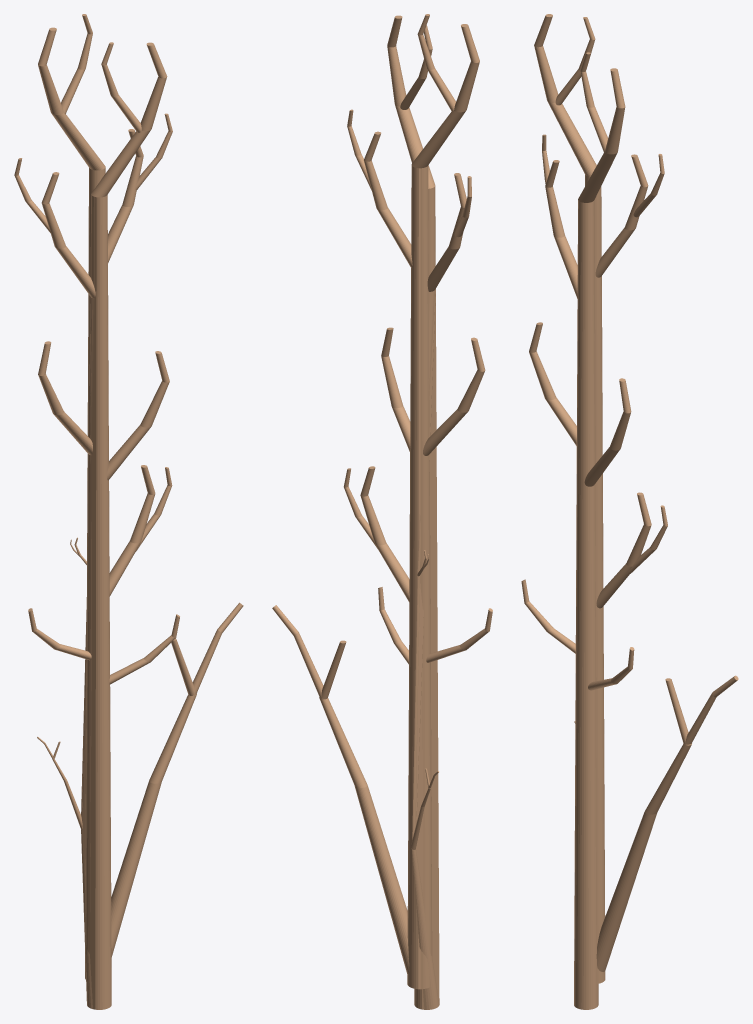
The model's file is trunk12.fbx.
3 renders of one model, left to right at view 1: azimuth 30°, elevation 25°; view 2: azimuth 150°, elevation 25°; view 3: azimuth 330°, elevation 25°, orthographic.
Visible parts, largest first — view 1: trunk12; view 2: trunk12; view 3: trunk12.
Part boxes in pixels (x1=…): trunk12: x1=14, y1=14, x2=243, y2=1009; trunk12: x1=272, y1=14, x2=492, y2=1009; trunk12: x1=521, y1=14, x2=738, y2=1009.
Bounding box in the file's own units: 58.54 × 255 × 20.21.
